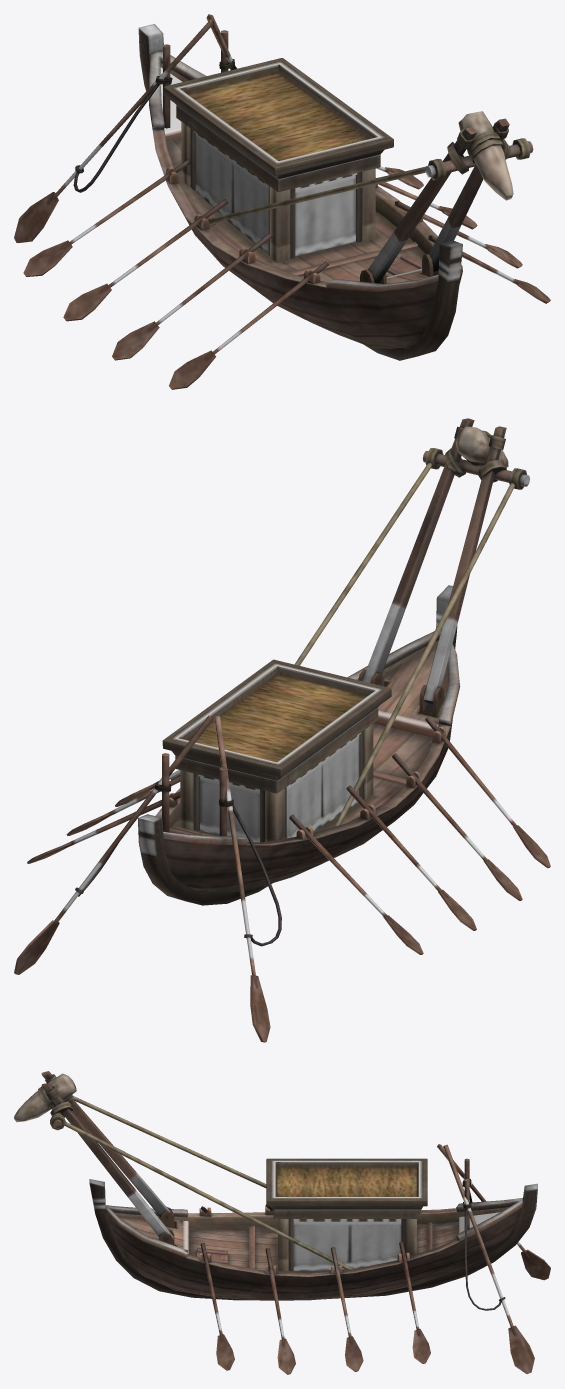
The model's file is body-base.glb.
The picture shows the model from 3 angles, top to bottom: view 1: azimuth 30°, elevation 25°; view 2: azimuth 150°, elevation 25°; view 3: azimuth 270°, elevation 25°; orthographic projection. The views are drawn at different scales.
Size of the model in its own units: 3.78 by 3.07 by 5.93.
Materials: 1 (1 with a texture image).
